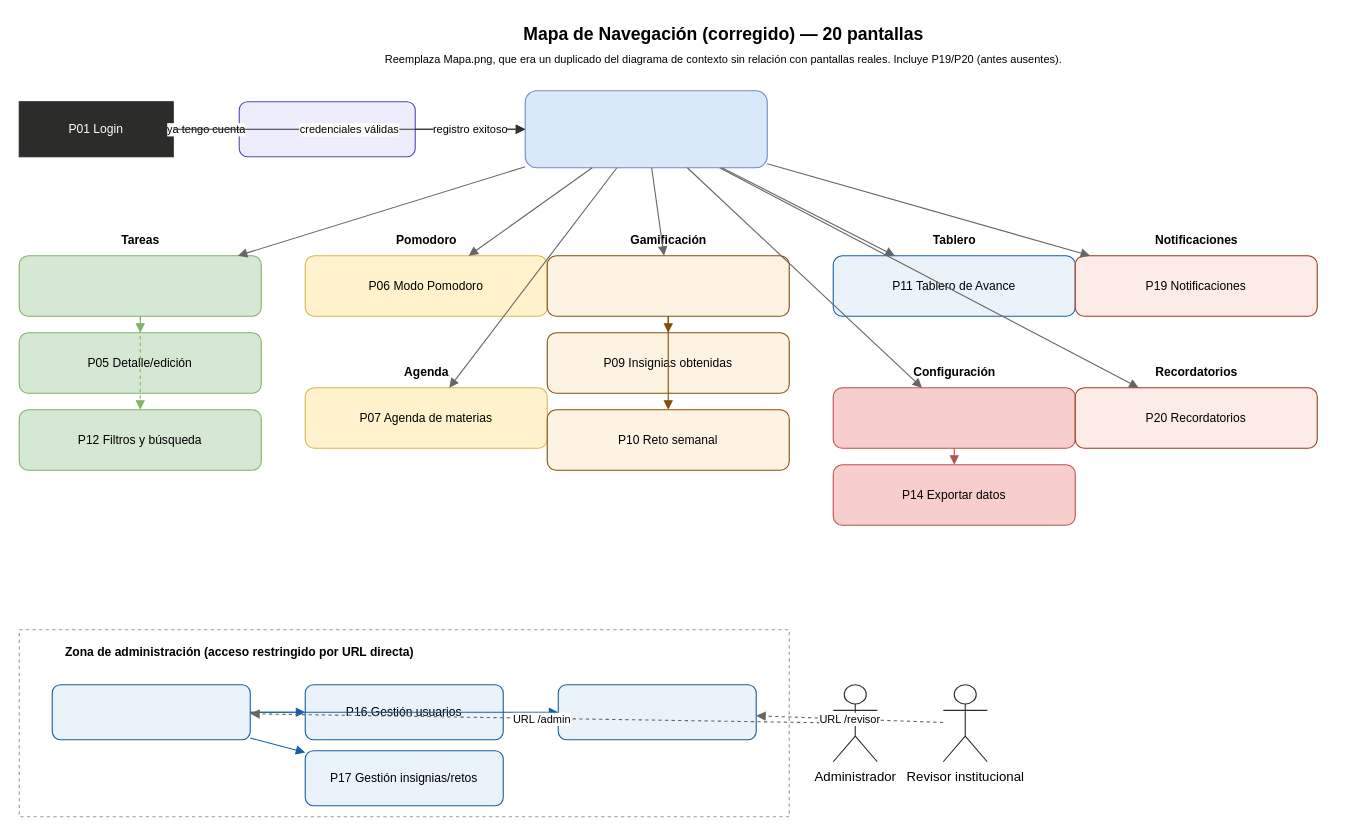
Image size: 1348x836. Some labels were removed from this diagram. Each missing label, with the centre of its shape:
P02 Registro: (326,129)
P03 Dashboard (hub central): (645,129)
P04 Lista de tareas: (139,285)
P08 Panel gamificación: (667,285)
P13 Config./Preferencias: (953,417)
P15 Panel admin: (150,712)
P18 Tablero institucional: (656,712)
